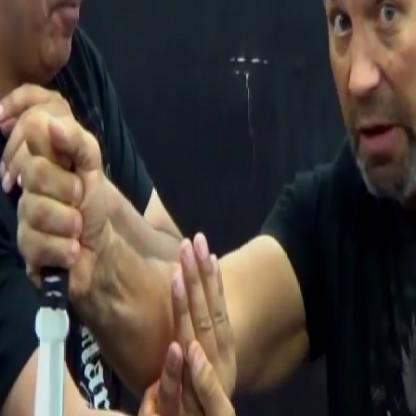knife: (8, 108, 97, 414)
